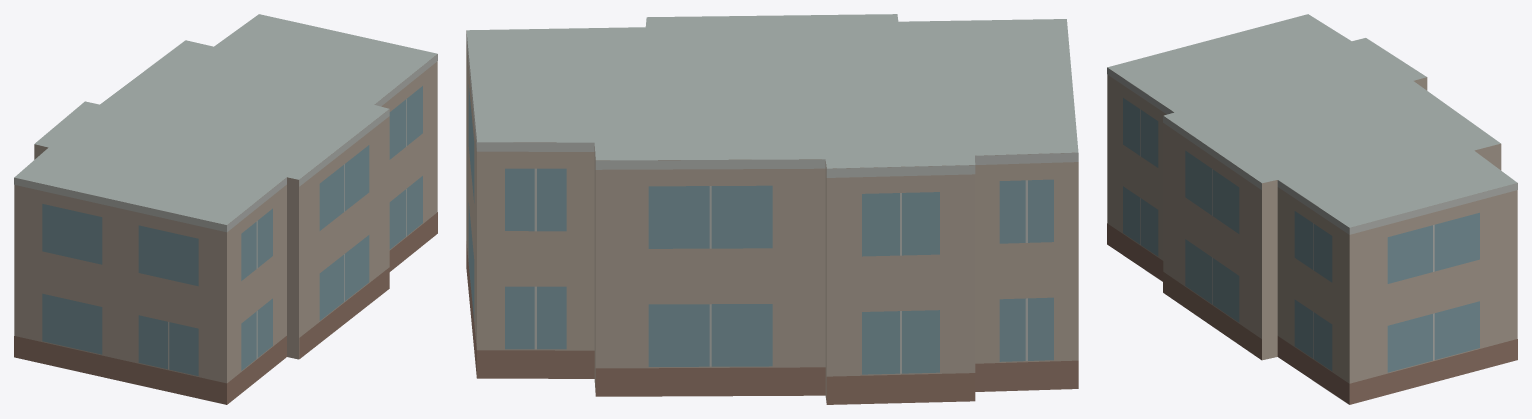
File: survey-upis-32876288.glb
3 renders of one model, left to right at view 1: azimuth 30°, elevation 25°; view 2: azimuth 150°, elevation 25°; view 3: azimuth 270°, elevation 25°, orthographic. The views are drawn at different scales.
Parts seen in each view (by area): view 1: survey-upis-32876288.tmp; view 2: survey-upis-32876288.tmp; view 3: survey-upis-32876288.tmp.
Boxes of the visible parts, x1,y1,x2,y2 form: survey-upis-32876288.tmp: [14, 14, 437, 404]; survey-upis-32876288.tmp: [466, 14, 1078, 404]; survey-upis-32876288.tmp: [1107, 14, 1517, 404].
Size of the model in its own units: 15.8 by 6.1 by 12.83.
